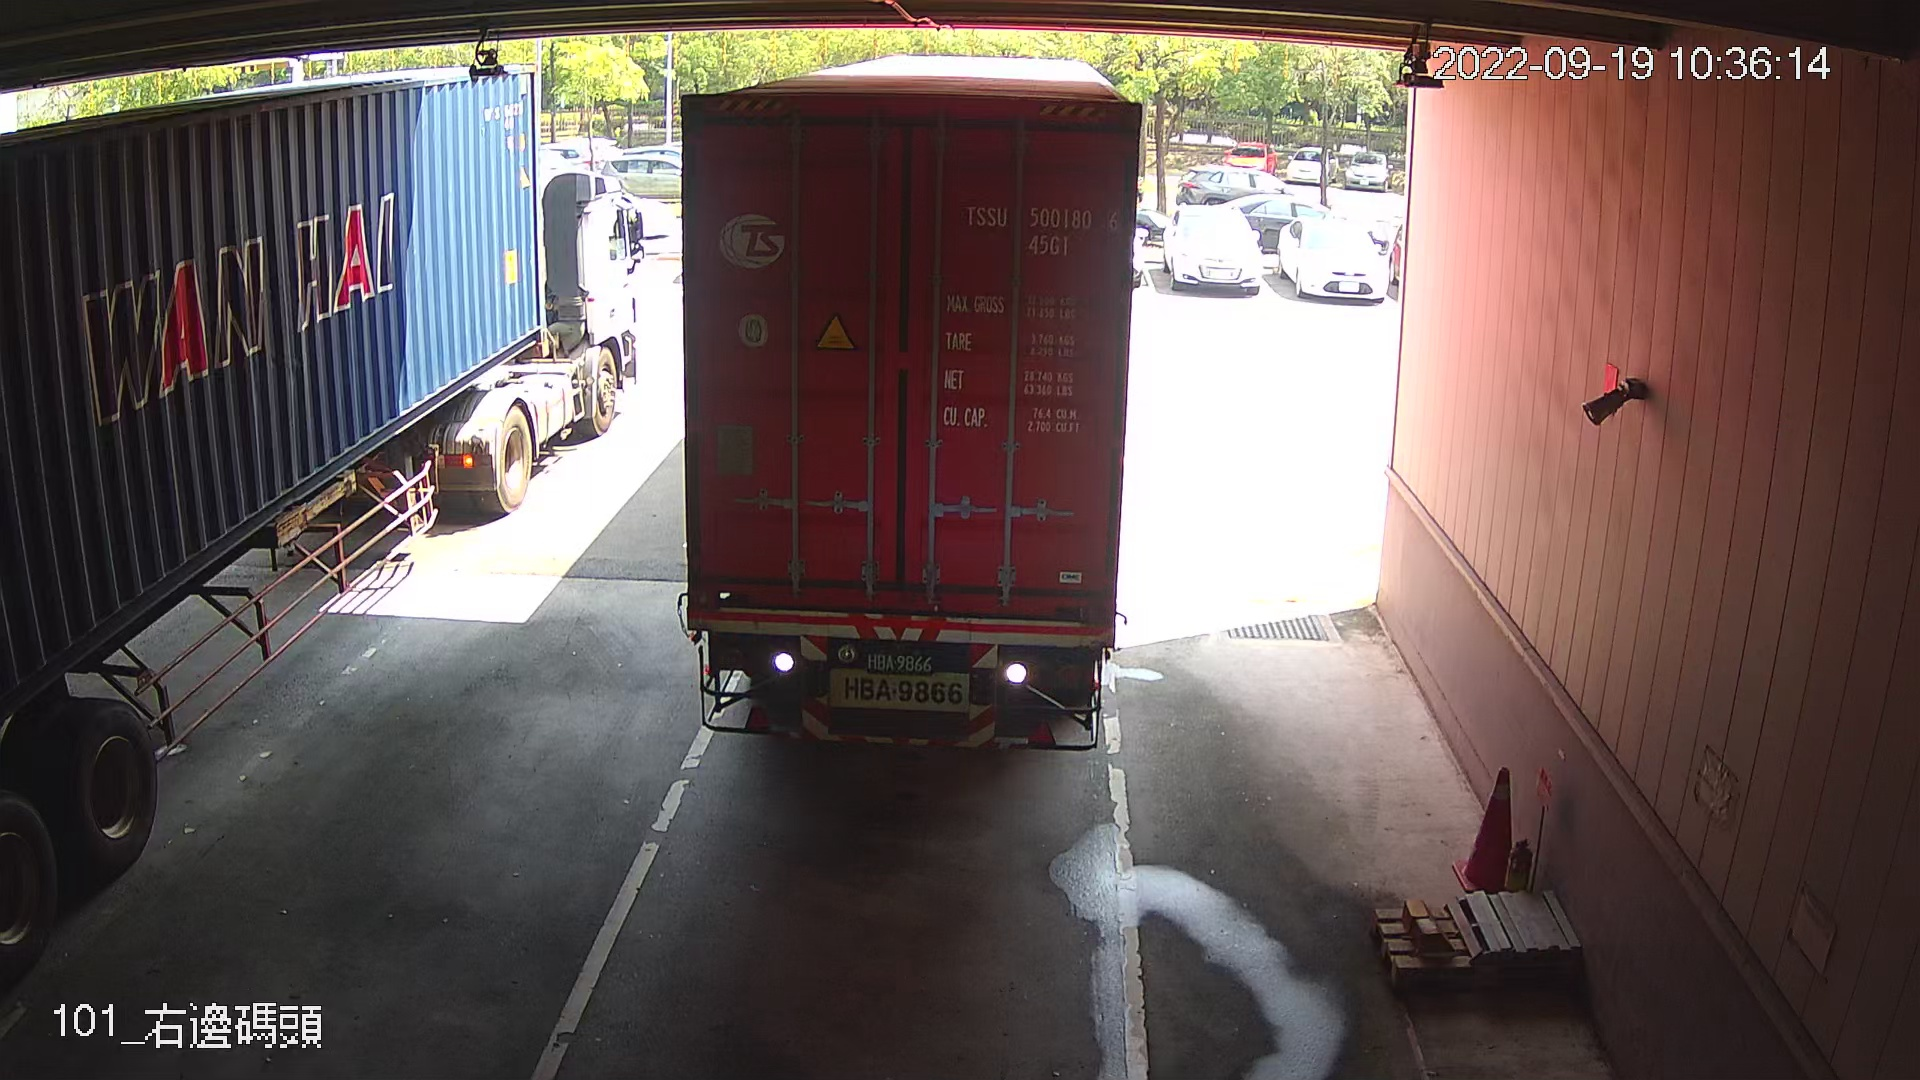container: (959, 193, 1125, 268)
